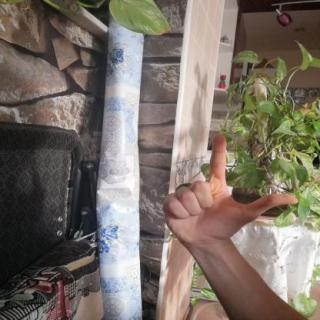LAAM: (156, 129, 304, 255)
